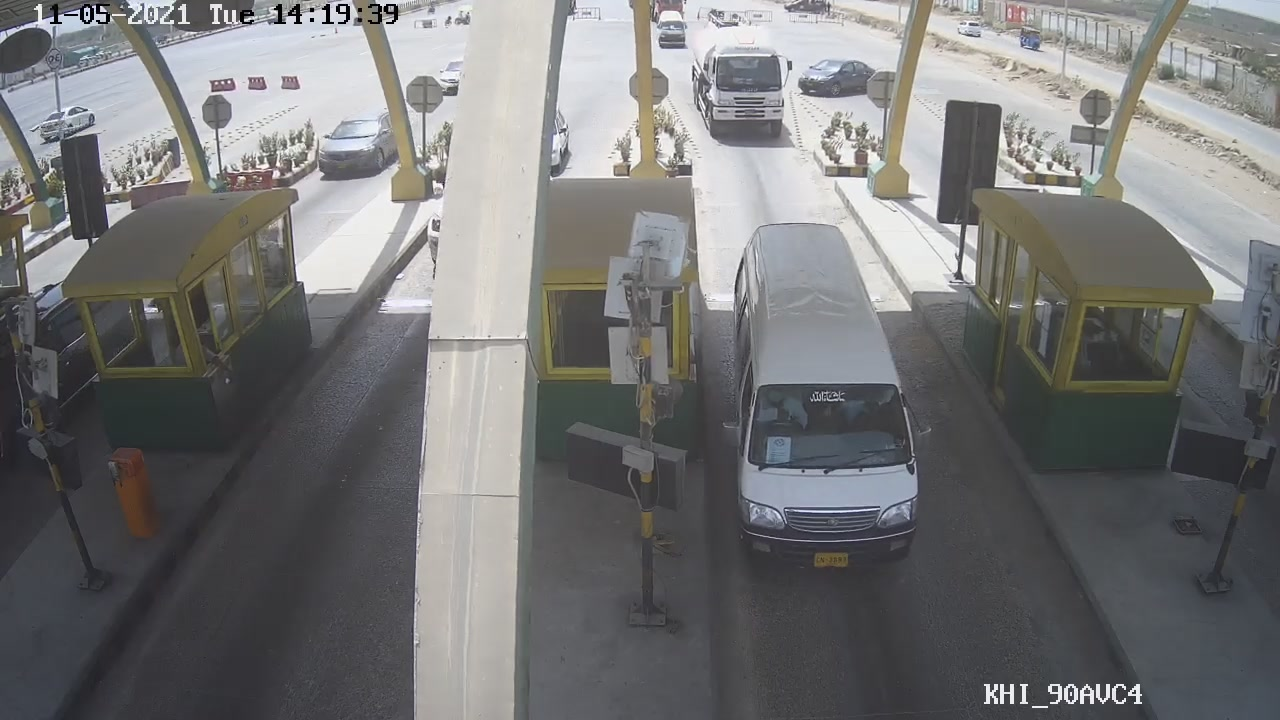F2: (726, 219, 923, 575)
